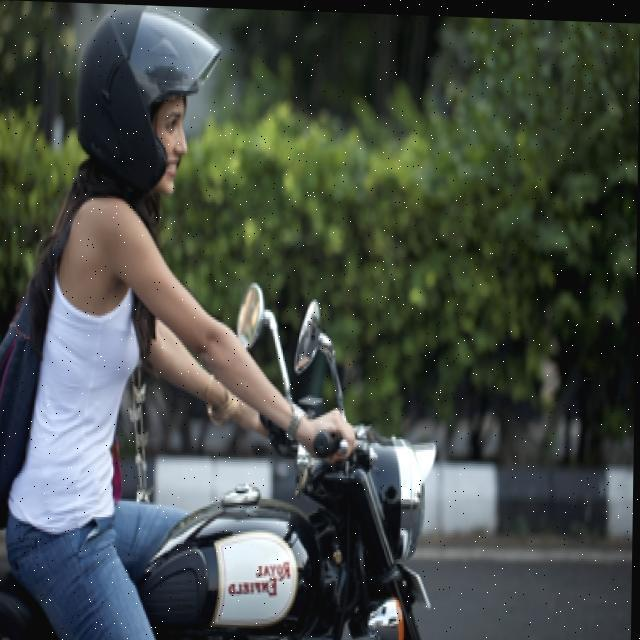Helmet: (67, 2, 224, 201)
